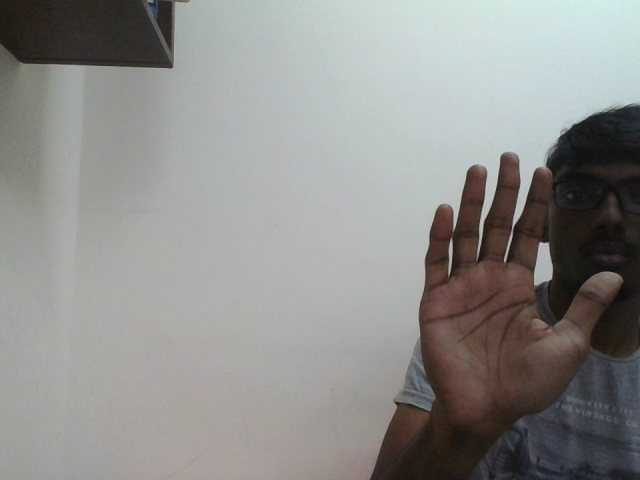Hello: (424, 150, 624, 416)
